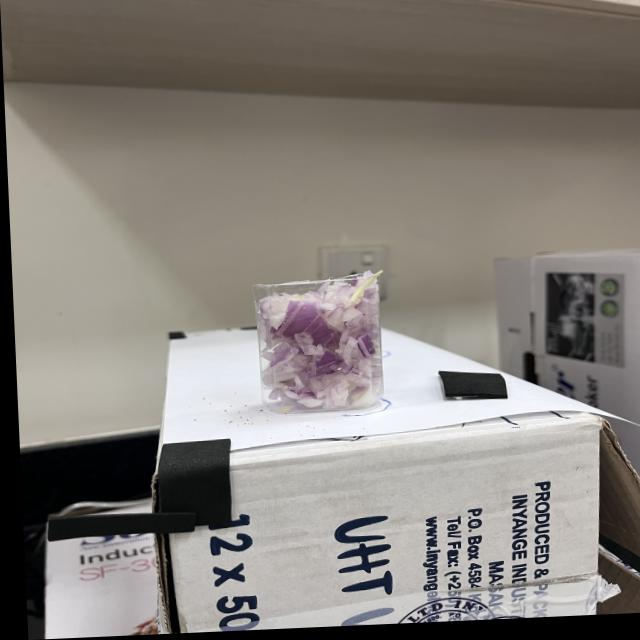sliced_onions: (258, 277, 381, 417)
